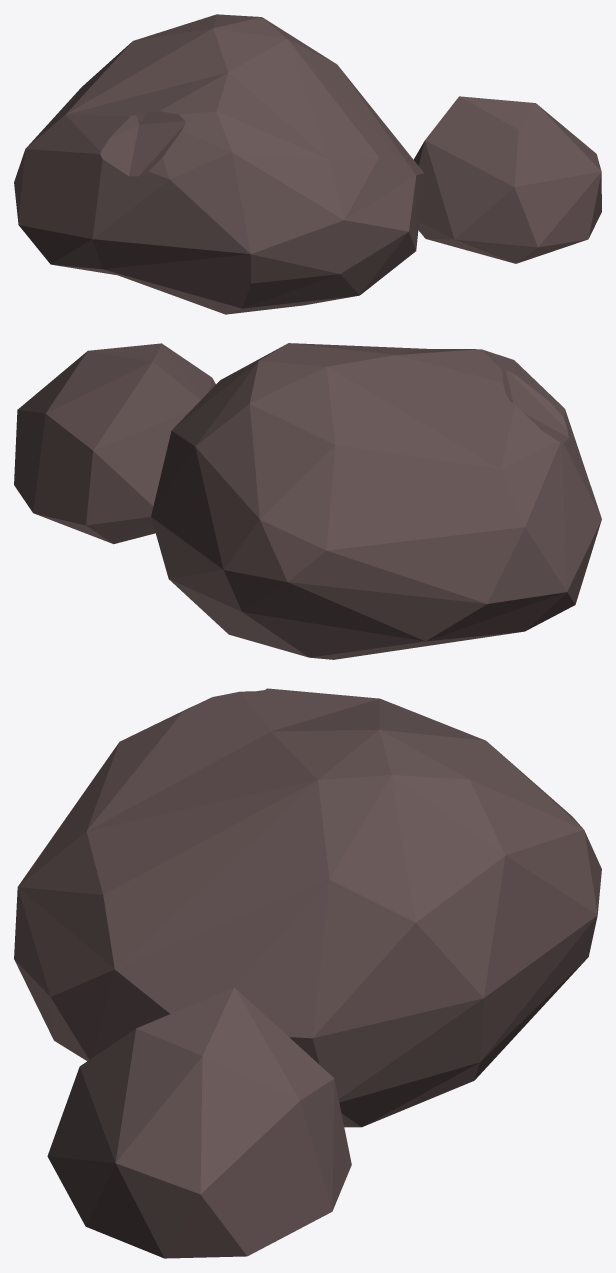
File: rocks_1.dae
The picture shows the model from 3 angles, top to bottom: view 1: azimuth 30°, elevation 25°; view 2: azimuth 150°, elevation 25°; view 3: azimuth 270°, elevation 25°; orthographic projection. The views are drawn at different scales.
Visible parts, largest first — view 1: node; view 2: node; view 3: node.
Part boxes in pixels (<box>): node: <box>14,14,601,314</box>; node: <box>14,343,601,659</box>; node: <box>14,688,601,1258</box>.
Bounding box in the file's own units: 5.84 × 3.89 × 2.62.
1 material, 1 textured.
